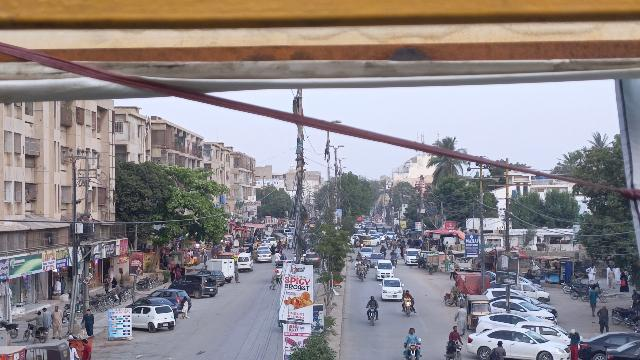Bike: (444, 339, 464, 360), (365, 305, 381, 327), (442, 291, 464, 307), (404, 341, 422, 360), (402, 298, 417, 317)
Car: (466, 328, 571, 358), (132, 304, 177, 332), (172, 274, 220, 298), (378, 278, 405, 301), (373, 260, 396, 280)
Person: (566, 328, 582, 360), (595, 303, 612, 333), (81, 307, 97, 338), (50, 304, 63, 337), (454, 304, 468, 334), (404, 324, 420, 347), (489, 340, 506, 360), (79, 338, 94, 360), (588, 284, 598, 312), (448, 324, 462, 342), (268, 270, 280, 290), (366, 295, 380, 310), (448, 281, 458, 297), (182, 298, 189, 318), (402, 289, 412, 301)
Rickshaw: (465, 294, 491, 330)
Truck: (206, 256, 235, 281)
